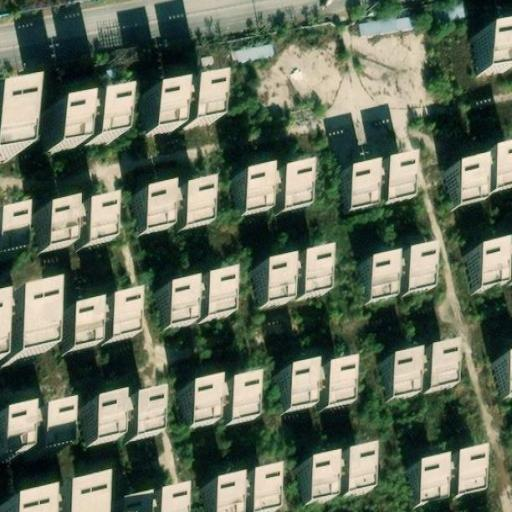building: (236, 161, 310, 224), (151, 78, 226, 136), (45, 97, 120, 154), (141, 180, 215, 237), (56, 296, 127, 355), (158, 275, 228, 334), (408, 448, 475, 509), (386, 343, 453, 404), (184, 374, 254, 432), (295, 447, 361, 508), (256, 253, 322, 314), (345, 155, 411, 215), (77, 397, 148, 452), (42, 197, 112, 252), (285, 357, 354, 412), (363, 249, 429, 304), (461, 137, 512, 204), (203, 468, 270, 512), (464, 241, 512, 293), (2, 484, 71, 512), (357, 11, 416, 37), (0, 202, 25, 257), (231, 38, 278, 64), (95, 496, 166, 512), (493, 352, 512, 398)
